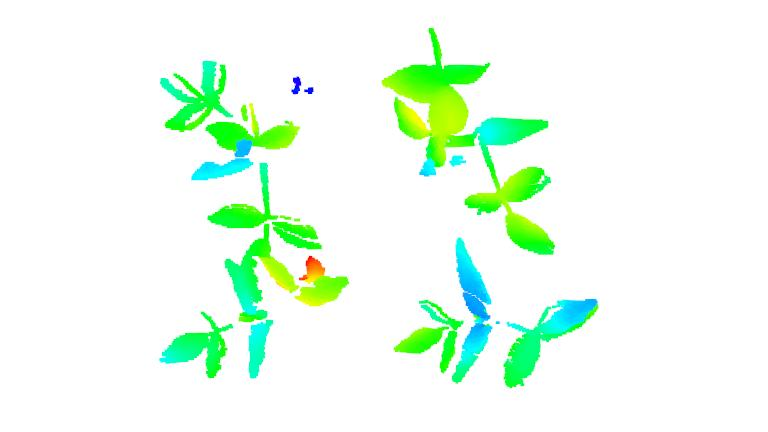mungbean: (385, 22, 560, 254), (393, 243, 601, 391), (157, 60, 310, 253), (157, 251, 358, 378)
